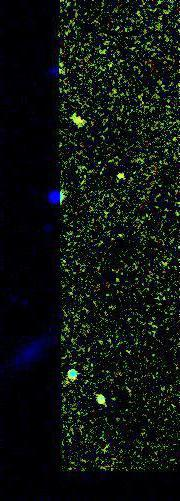star: (100, 162, 130, 192)
